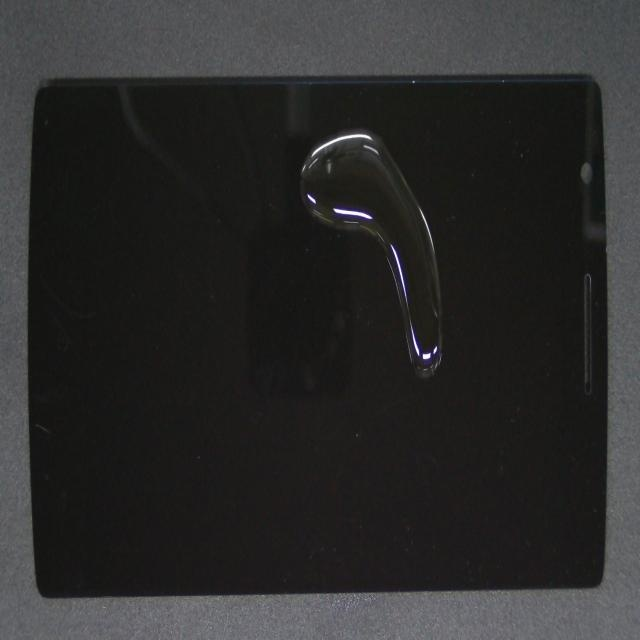oil: (197, 183, 640, 548)
